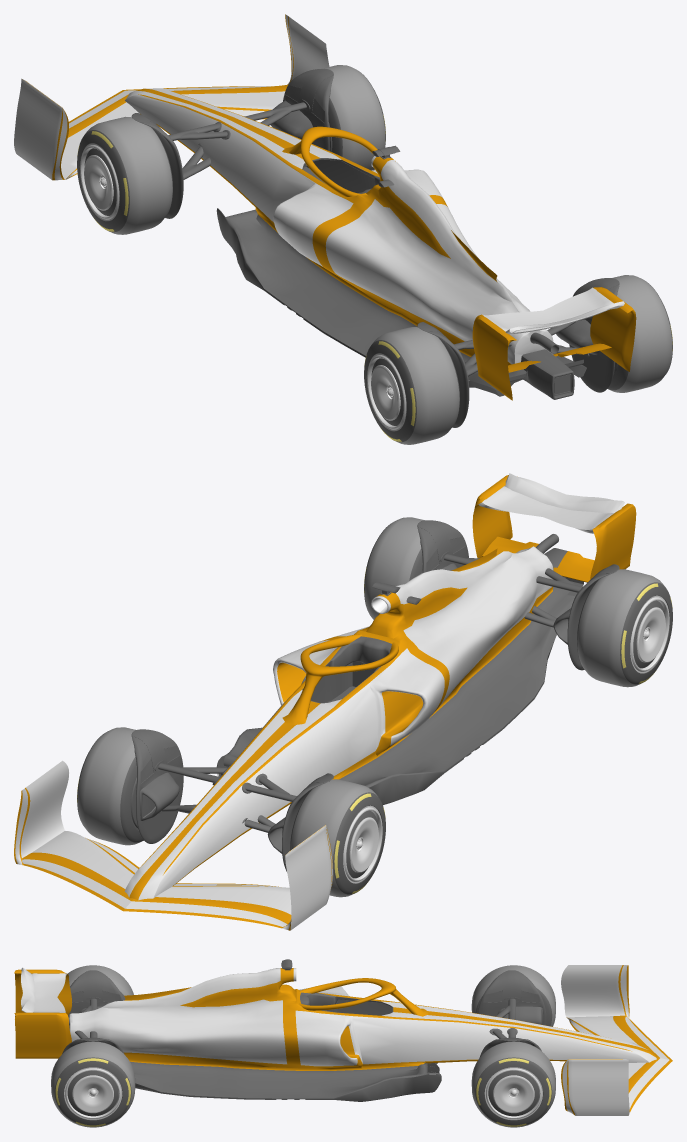
Rendered from auto.glb.
3 views of the same model, one above another, from view 1: azimuth 30°, elevation 25°; view 2: azimuth 150°, elevation 25°; view 3: azimuth 270°, elevation 25° (orthographic). The views are drawn at different scales.
Parts seen in each view (by area): view 1: Cilindro.001; view 2: Cilindro.001; view 3: Cilindro.001.
Part boxes in pixels (box(x1,y1,x2,y2)): Cilindro.001: box(14, 14, 672, 444); Cilindro.001: box(14, 473, 672, 930); Cilindro.001: box(14, 959, 672, 1127).
Bounding box in the file's own units: 2.55 × 1.46 × 7.16.
